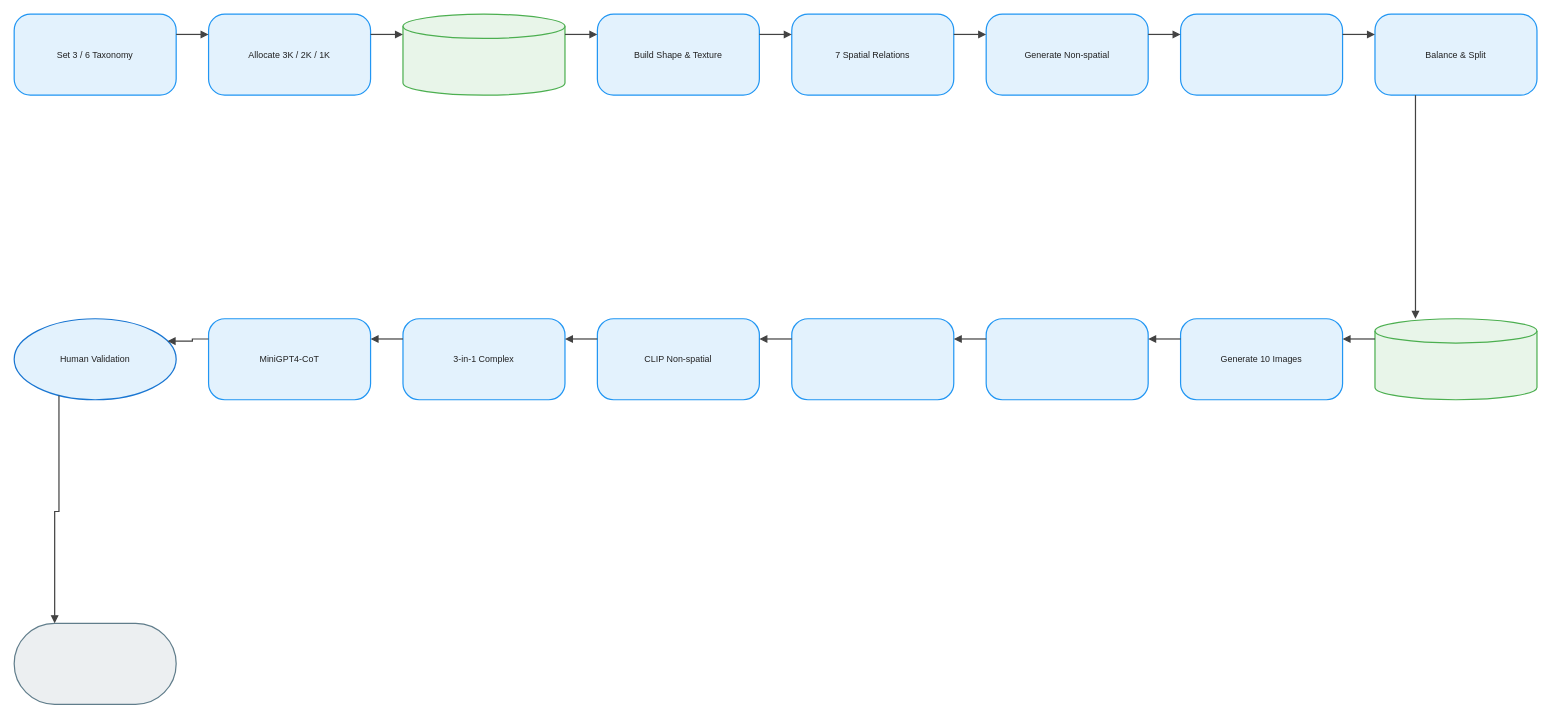
Some shapes in this 1552 by 719 pixel diagram are drawn without their labels. Here are the shapes that lost their labels. From the top down, the centre of each, then its label:
the point at 483,54: Source Color Prompts
the point at 1261,54: 4 Complex Scenarios
the point at 872,359: UniDet Spatial
the point at 1066,359: BLIP-VQA Attributes
the point at 1455,359: Freeze Original 6,000
the point at 94,663: Report 6 Metrics
